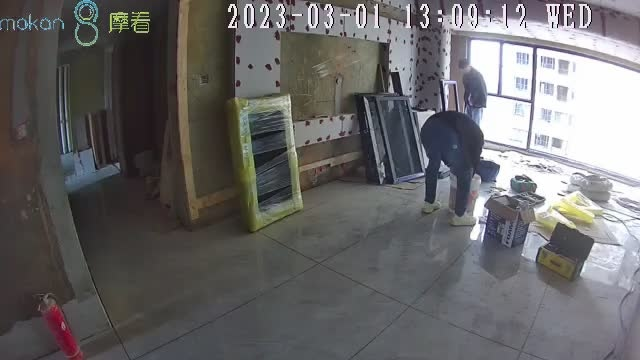people: (419, 110, 484, 226), (457, 56, 487, 144)
window: (466, 38, 640, 186)
